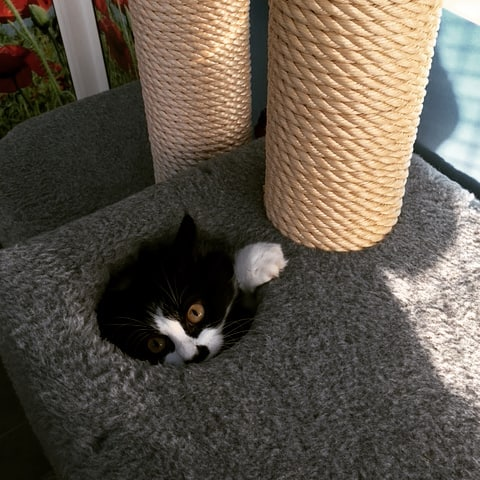cat: (96, 220, 288, 368)
